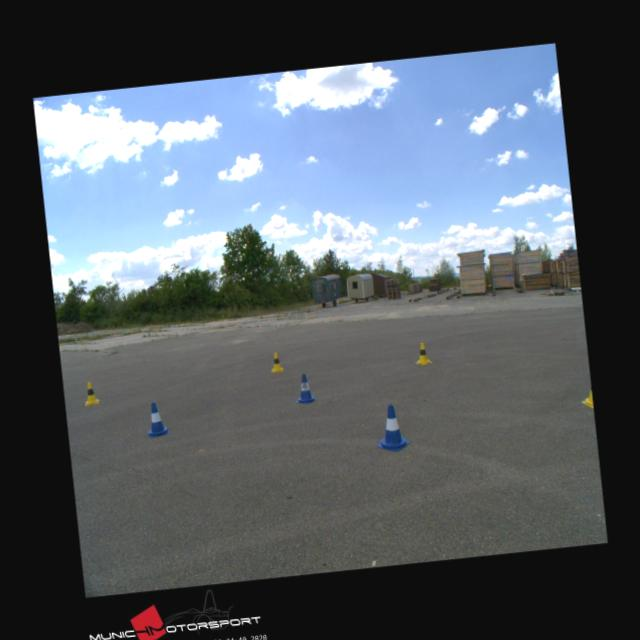blue_cone: (372, 402, 410, 452), (144, 400, 169, 437), (293, 372, 317, 404)
yellow_cone: (412, 341, 431, 364), (82, 380, 98, 404), (269, 352, 283, 372)
